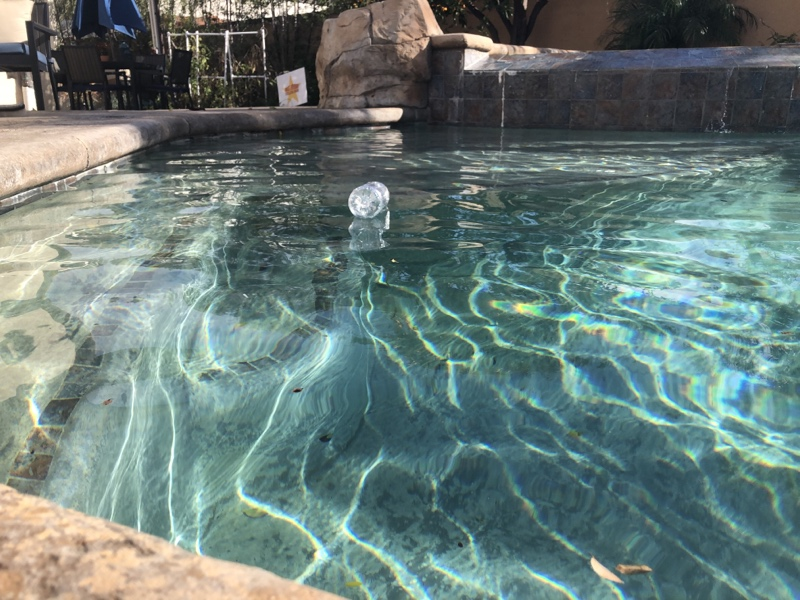Plastic Bottle: (347, 177, 390, 220)
